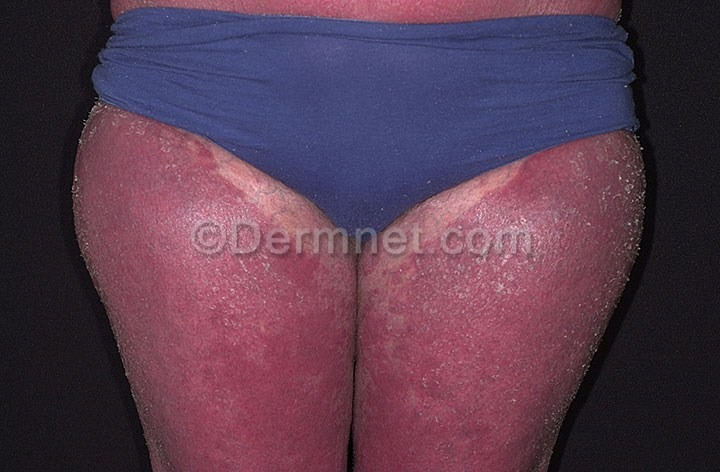Psoriasis: (114, 255, 350, 471), (370, 263, 564, 471), (73, 122, 253, 266), (479, 159, 638, 279)
